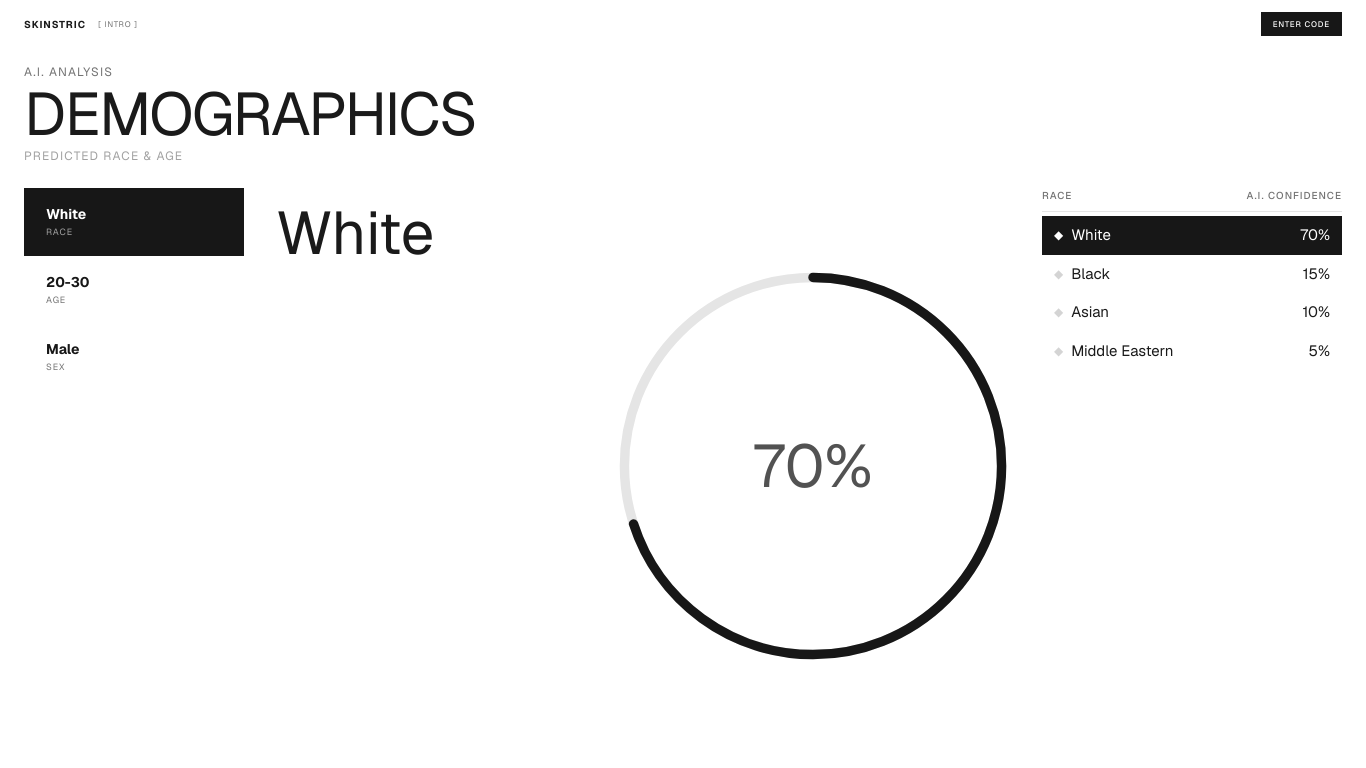
Test: Summary Page › updates selection when a different score is clicked
This screenshot has width=1366, height=768.
// Click on "Black" in the scores table
What coordinates should you click on to do the following:
click the text "Black"
I would click on:
 (1091, 274)
Its box is [1071,262,1110,285].
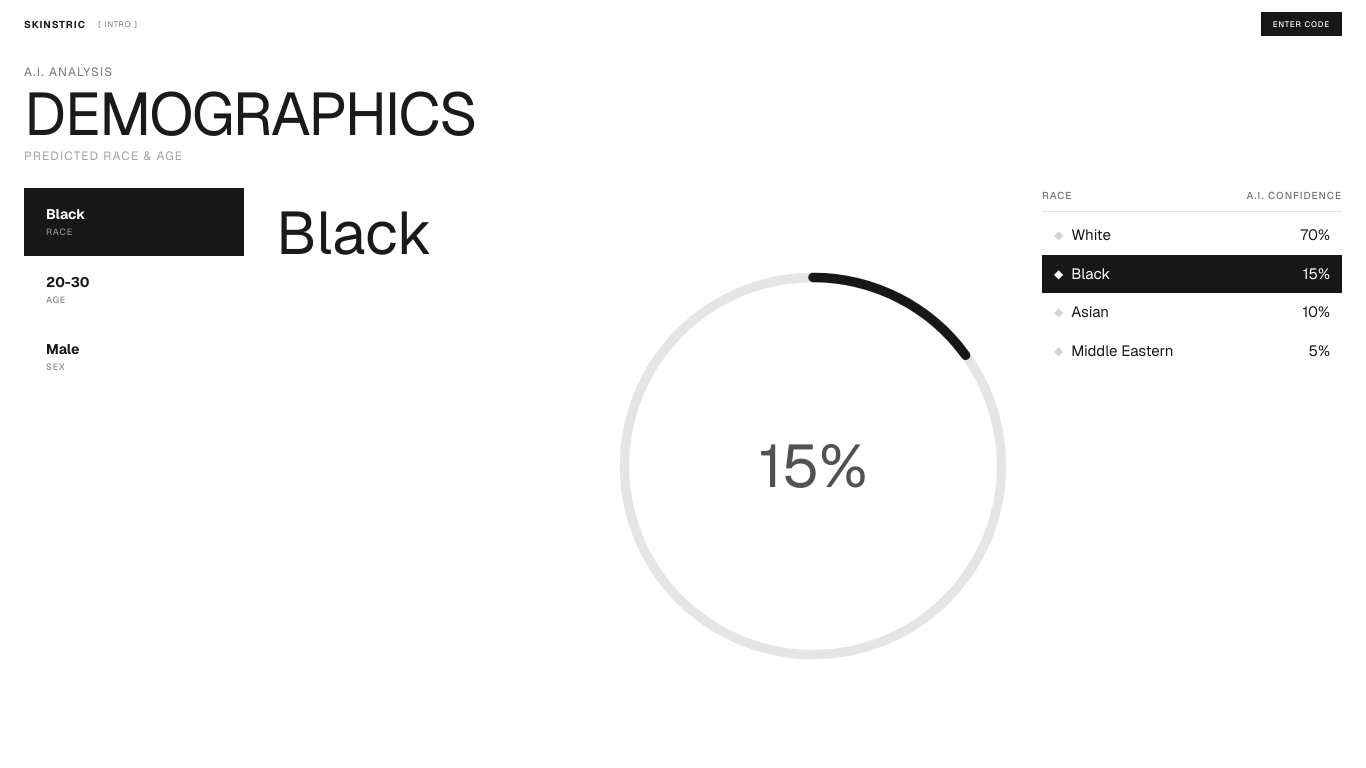
Expected: the 2nd text "15%" is shown, [759,436,867,496]
